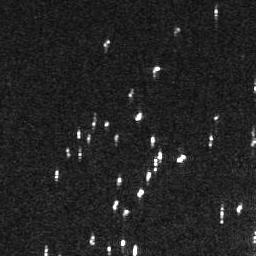ship: (135, 187, 145, 197), (177, 153, 186, 164), (135, 110, 143, 122), (52, 169, 60, 180), (153, 65, 161, 76), (220, 207, 225, 224), (236, 203, 243, 214), (150, 135, 157, 146), (89, 235, 96, 246), (157, 150, 163, 162), (146, 169, 151, 182), (132, 243, 137, 256), (119, 239, 127, 247), (123, 208, 130, 217), (103, 39, 110, 48), (113, 200, 118, 212), (116, 176, 122, 186), (76, 129, 81, 139), (86, 134, 91, 143), (103, 121, 110, 127), (214, 8, 218, 17), (106, 245, 111, 252)
